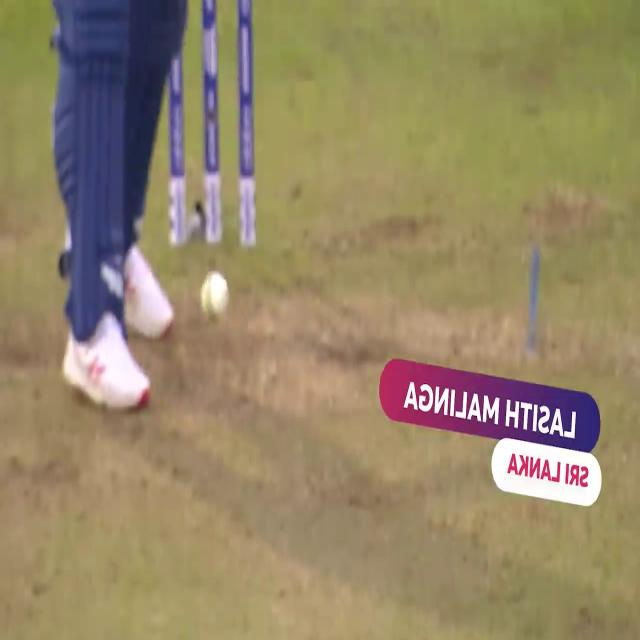ball: (199, 268, 233, 326)
